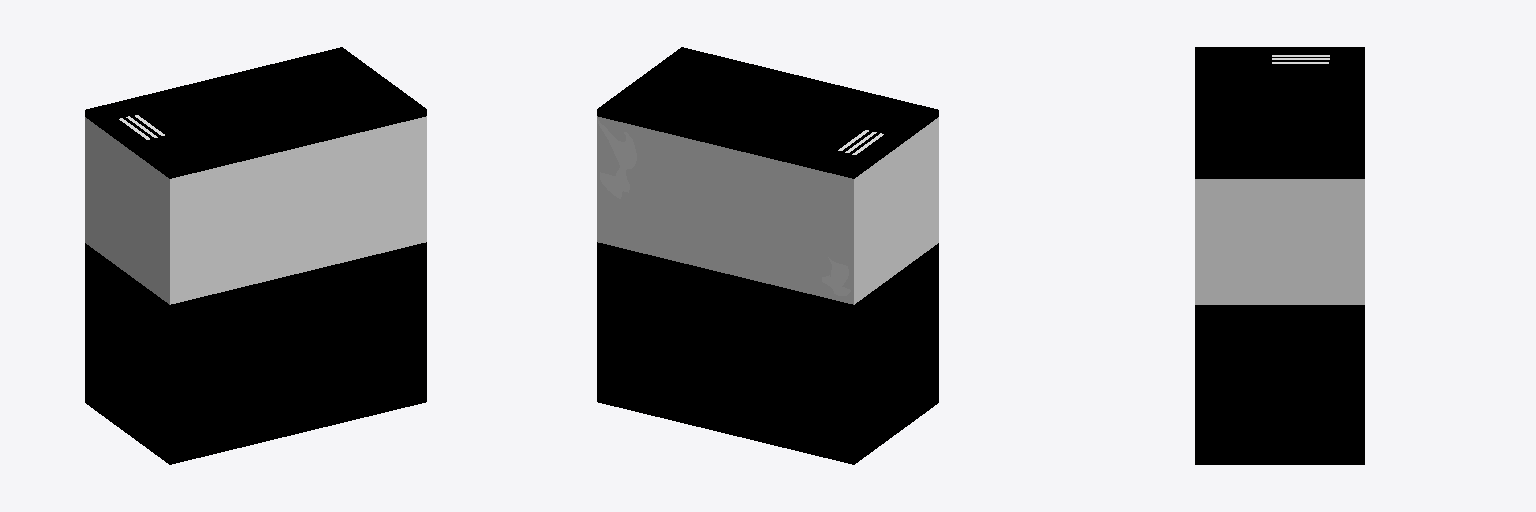
3 renders of one model, left to right at view 1: azimuth 30°, elevation 25°; view 2: azimuth 150°, elevation 25°; view 3: azimuth 270°, elevation 25°, orthographic.
Parts seen in each view (by area): view 1: d_model2:Layer0_001; view 2: d_model2:Layer0_001; view 3: d_model2:Layer0_001.
Boxes of the visible parts, x1=… form: d_model2:Layer0_001: x1=85, y1=47, x2=426, y2=464; d_model2:Layer0_001: x1=597, y1=47, x2=938, y2=464; d_model2:Layer0_001: x1=1195, y1=47, x2=1364, y2=464.
Bounding box in the file's own units: 7.73 × 8.4 × 4.43.
Materials: 5 (2 with a texture image).